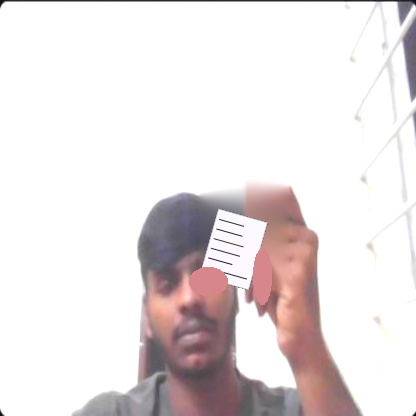cheat_chit: (199, 208, 268, 290)
